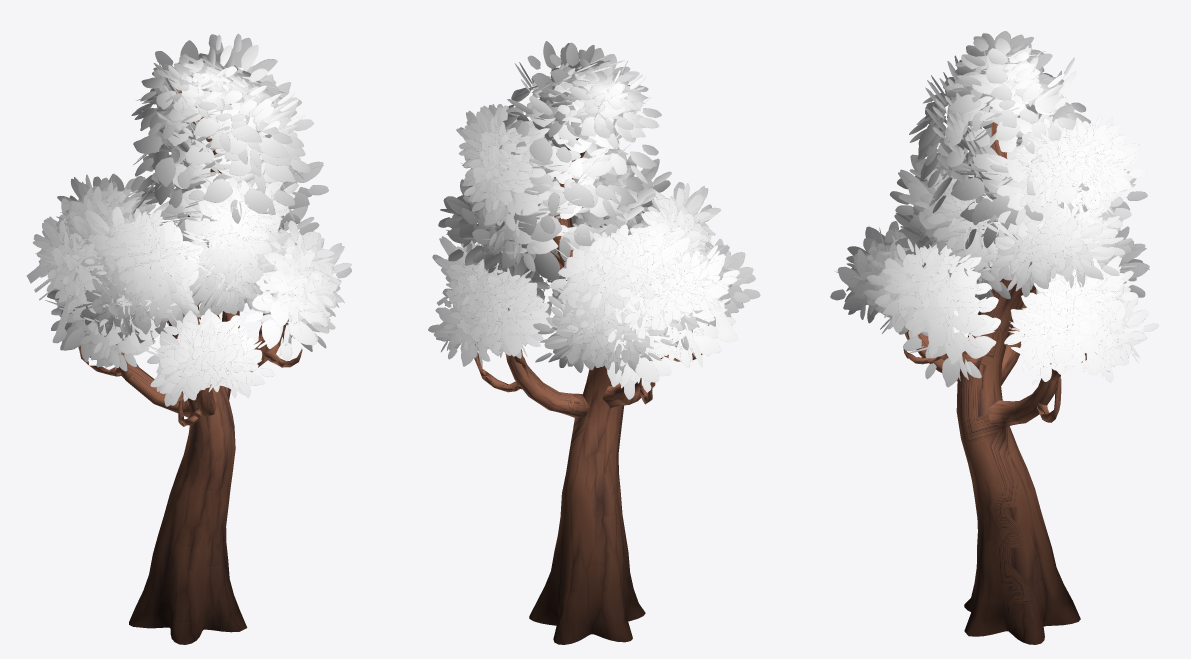
File: CommonTree_2.glb
The picture shows the model from 3 angles, left to right: view 1: azimuth 30°, elevation 25°; view 2: azimuth 150°, elevation 25°; view 3: azimuth 270°, elevation 25°; orthographic projection. The views are drawn at different scales.
Parts seen in each view (by area): view 1: CommonTree_2; view 2: CommonTree_2; view 3: CommonTree_2.
Boxes of the visible parts, x1,y1,x2,y2 form: CommonTree_2: [26, 33, 351, 644]; CommonTree_2: [428, 41, 760, 644]; CommonTree_2: [830, 31, 1158, 644].
Size of the model in its own units: 4.46 by 7.64 by 4.28.
Materials: 2 (2 with a texture image).
